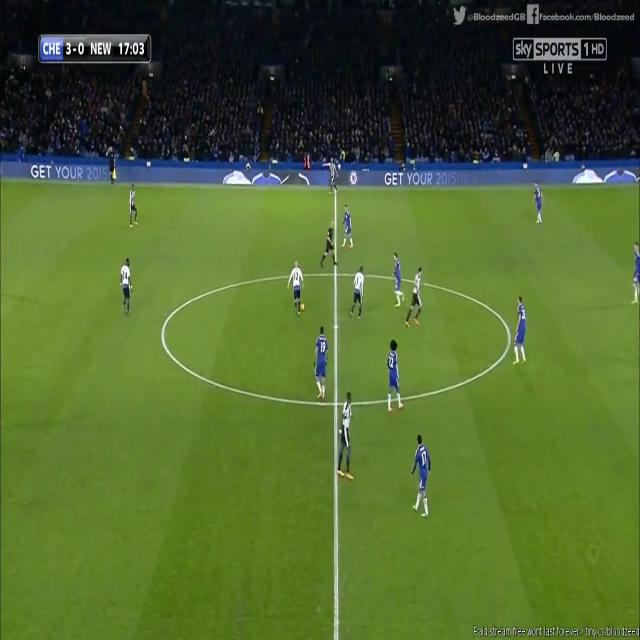Ball: (300, 299, 306, 315)
Player: (408, 435, 434, 520), (334, 390, 356, 484), (384, 341, 405, 415), (402, 265, 424, 333), (510, 292, 528, 370), (288, 259, 306, 317), (348, 265, 366, 321), (119, 256, 135, 318), (390, 251, 404, 310), (530, 180, 544, 226), (323, 158, 339, 197), (631, 238, 640, 306), (341, 204, 354, 251), (127, 182, 139, 230)
Referee: (318, 217, 338, 270), (106, 146, 118, 186)
